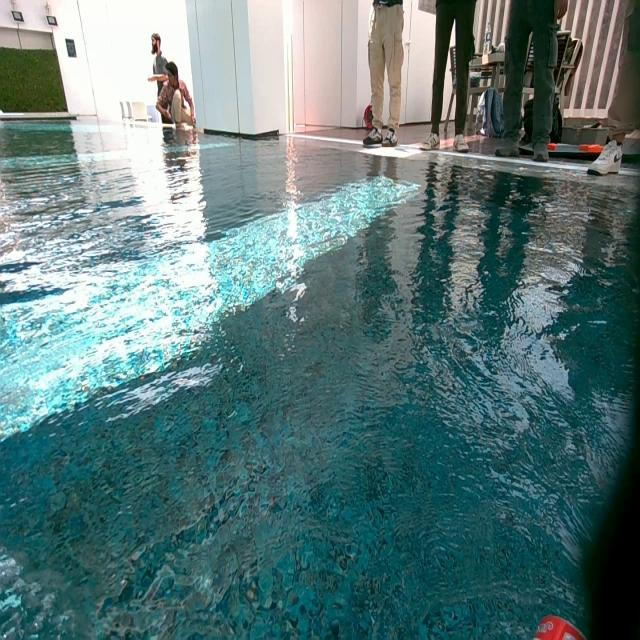Cans: (532, 615, 594, 640)
